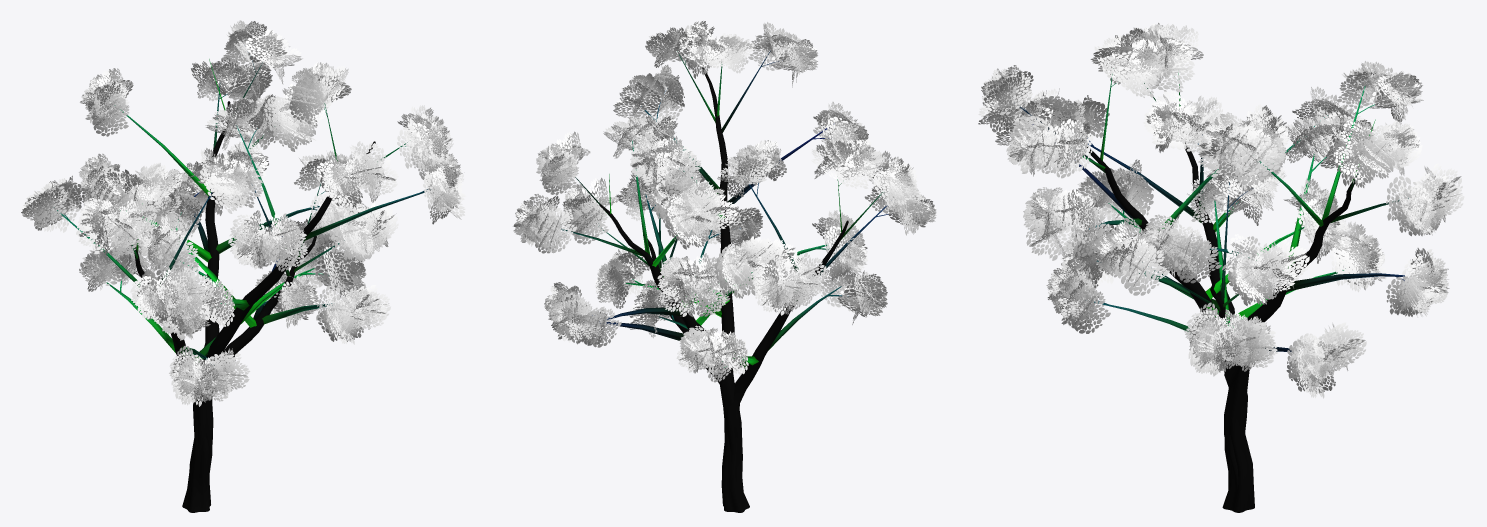
The model's file is tree1re.fbx.
3 renders of one model, left to right at view 1: azimuth 30°, elevation 25°; view 2: azimuth 150°, elevation 25°; view 3: azimuth 270°, elevation 25°, orthographic. The views are drawn at different scales.
Visible parts, largest first — view 1: Tree_1, Tree_0; view 2: Tree_1, Tree_0; view 3: Tree_1, Tree_0.
Boxes of the visible parts, left/top/right/bottom form: Tree_1: left=21, top=20, right=466, bottom=406; Tree_0: left=57, top=52, right=428, bottom=512; Tree_1: left=513, top=21, right=936, bottom=382; Tree_0: left=561, top=50, right=888, bottom=512; Tree_1: left=978, top=23, right=1464, bottom=398; Tree_0: left=1020, top=68, right=1408, bottom=512.
Size of the model in its own units: 418 by 509 by 452.
Materials: 1 (1 with a texture image).
